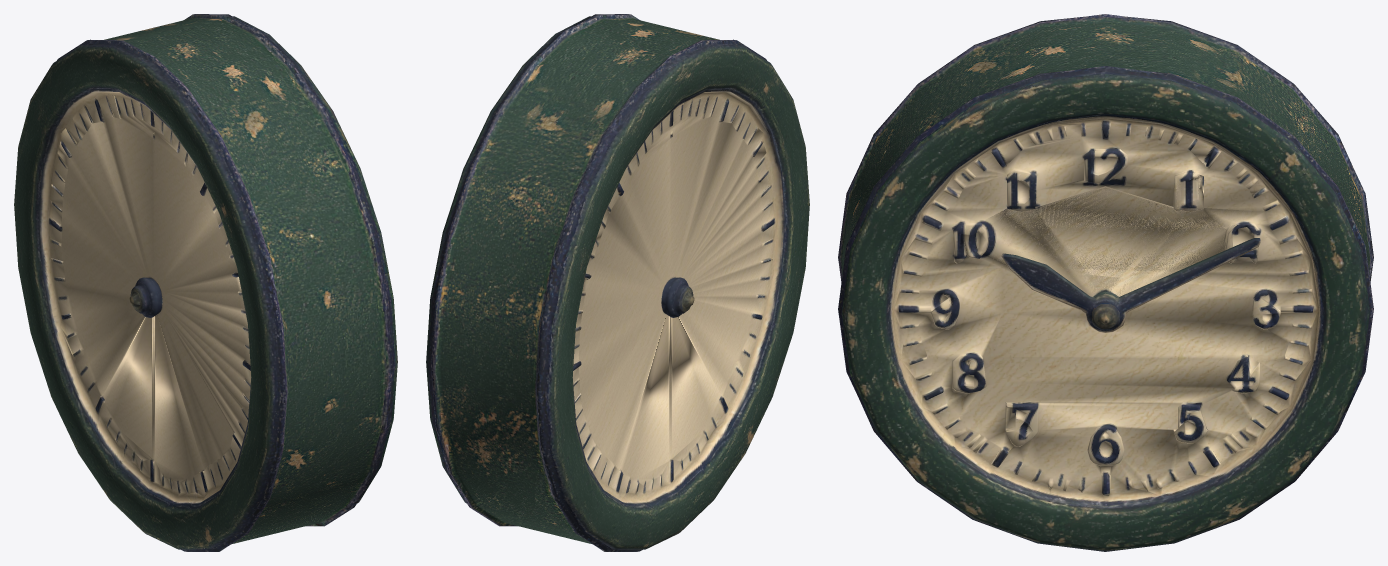
The model's file is OfficeClockV2.fbx.
3 renders of one model, left to right at view 1: azimuth 30°, elevation 25°; view 2: azimuth 150°, elevation 25°; view 3: azimuth 270°, elevation 25°, orthographic.
Parts seen in each view (by area): view 1: tripo_node_0048f75d-b1e6-41e7-908d-75e57e203f65; view 2: tripo_node_0048f75d-b1e6-41e7-908d-75e57e203f65; view 3: tripo_node_0048f75d-b1e6-41e7-908d-75e57e203f65.
Boxes of the visible parts, box(x1,y1,x2,y2) form: tripo_node_0048f75d-b1e6-41e7-908d-75e57e203f65: box(14, 14, 397, 551); tripo_node_0048f75d-b1e6-41e7-908d-75e57e203f65: box(426, 14, 809, 551); tripo_node_0048f75d-b1e6-41e7-908d-75e57e203f65: box(838, 14, 1373, 551).
Bounding box in the file's own units: 33.86 × 100 × 100.
1 material, 1 textured.
